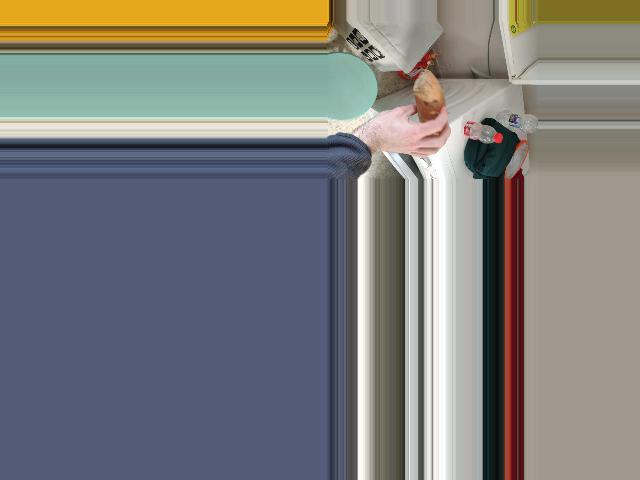sweet_potato: (420, 82, 441, 129)
